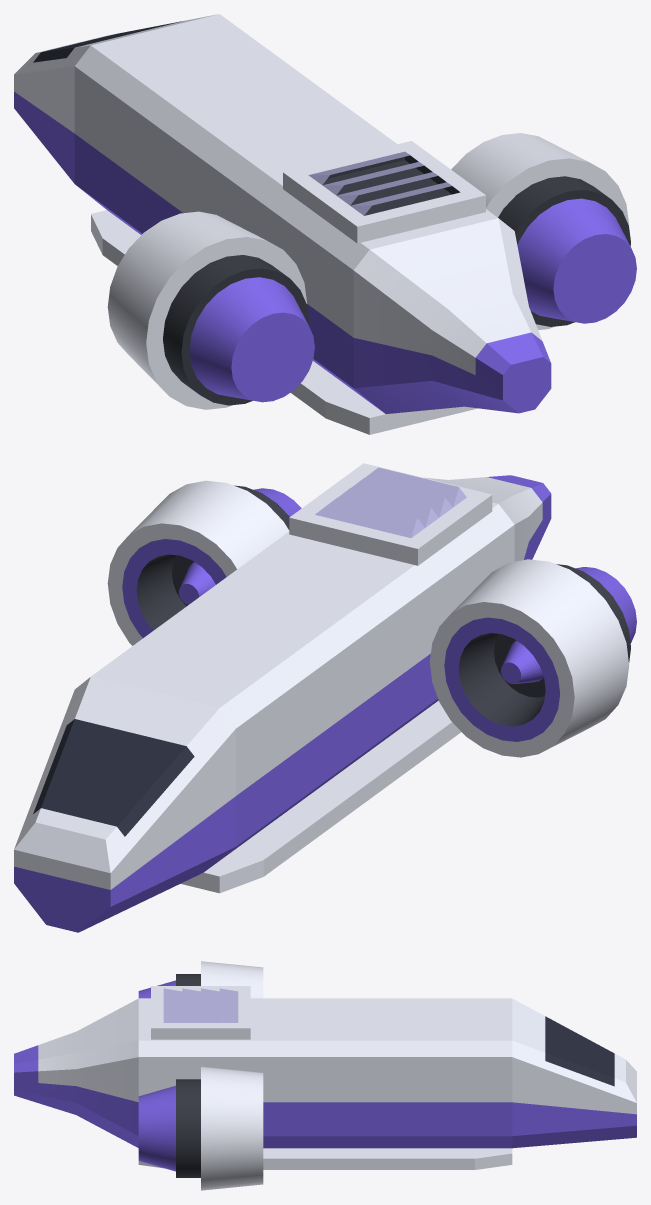
Rendered from mantis_ext.glb.
3 renders of one model, top to bottom at view 1: azimuth 30°, elevation 25°; view 2: azimuth 150°, elevation 25°; view 3: azimuth 270°, elevation 25°, orthographic. The views are drawn at different scales.
Parts seen in each view (by area): view 1: mergedBlocks(Clone); view 2: mergedBlocks(Clone); view 3: mergedBlocks(Clone).
Boxes of the visible parts, x1,y1,x2,y2 form: mergedBlocks(Clone): (14, 14, 636, 434); mergedBlocks(Clone): (14, 463, 636, 932); mergedBlocks(Clone): (14, 961, 636, 1190).
Size of the model in its own units: 3 by 1.25 by 5.
